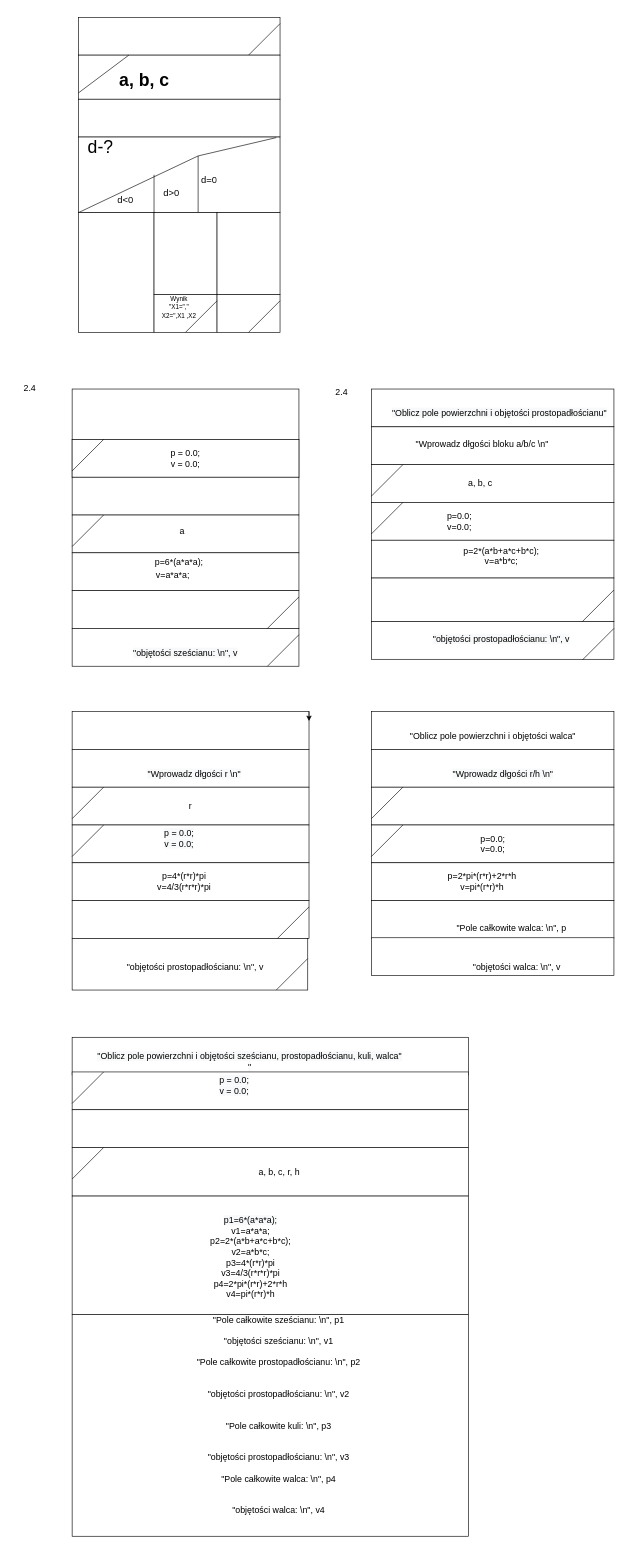
Image size: 626x1547. Some labels were removed from this diagram. The centre of each missing label's shape, as x and y in pixels:
"Oblicz pole powierzchni i objętości kuli": pixel 190 730
"Oblicz pole powierzchni i objętości sześcianu": pixel 185 413
"Podaj a \n": pixel 185 496
"Pole całkowite kuli: \n", p: pixel 190 919
"Pole całkowite prostopadłościanu: \n", p: pixel 492 599
"Pole całkowite sześcianu: \n", p: pixel 185 609
"Wprowadz dłgości bloku a/b/c/r/h \n": pixel 270 1128
brak pierwiastków: pixel 116 272
d=b*b-4*a*c: pixel 179 118
Podaj 3 liczby: pixel 179 36
r , h: pixel 492 806
Wynik "x=", x: pixel 248 313
x 1 =(-b+d 1/2 )/(2*a) x 2 =(-b-d 1/2 )/(2*a): pixel 185 253
x=-b/(2*a): pixel 248 253
